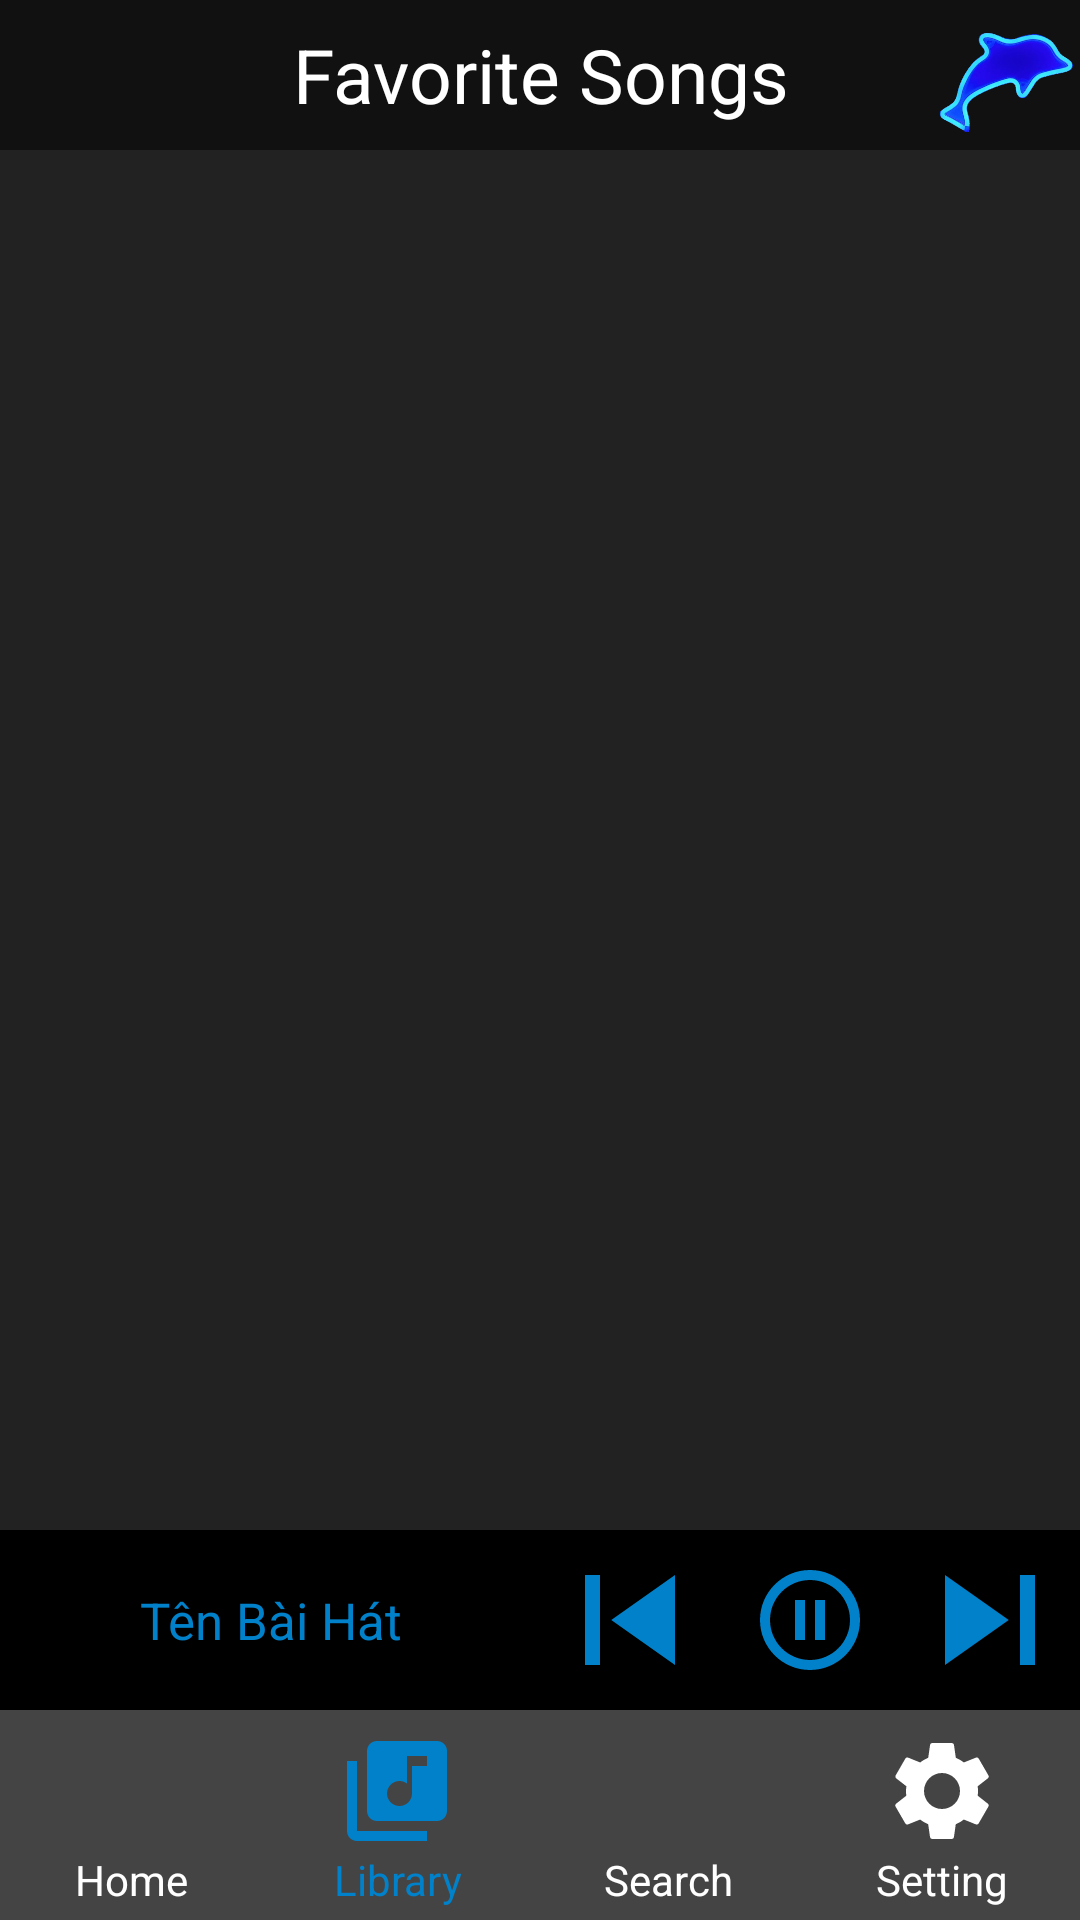

Where to tap for icons on this 1080 x 1920 app screen, as point (x, y):
pause: point (810, 1620)
skip next: point (990, 1620)
skip previous: point (630, 1620)
